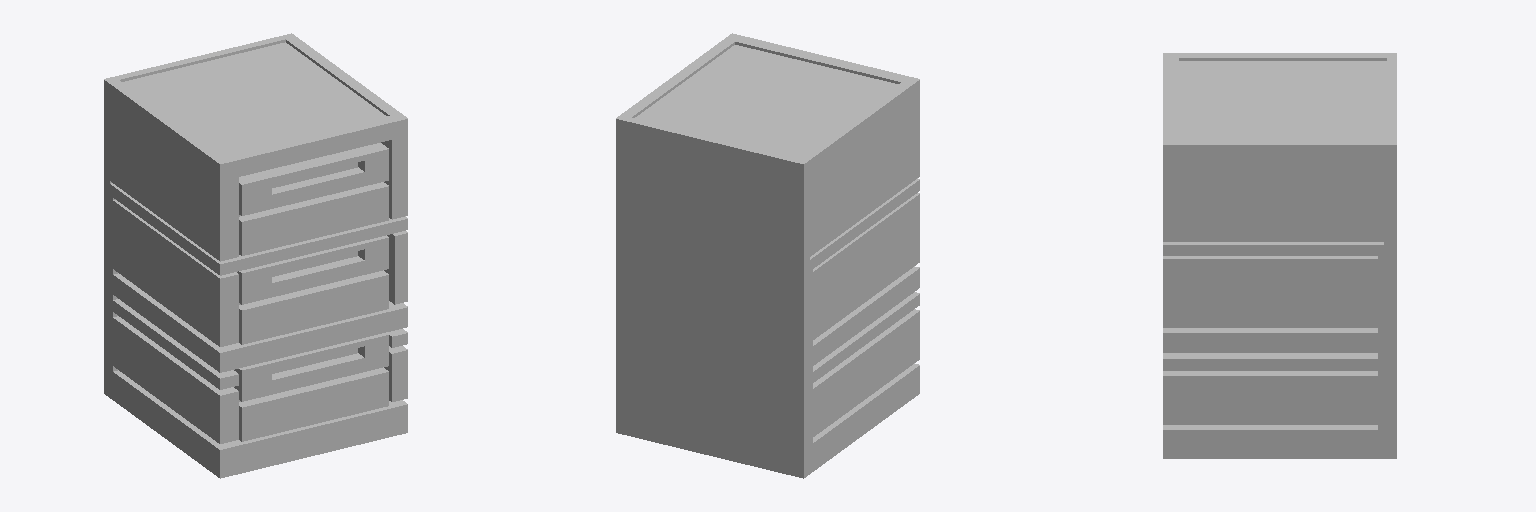
Rendered from archivero con cajones.obj.
3 renders of one model, left to right at view 1: azimuth 30°, elevation 25°; view 2: azimuth 150°, elevation 25°; view 3: azimuth 270°, elevation 25°, orthographic.
Visible parts, largest first — view 1: object 1; view 2: object 1; view 3: object 1.
Part boxes in pixels (left/top/right/bottom): object 1: left=104, top=33, right=407, bottom=478; object 1: left=616, top=33, right=919, bottom=478; object 1: left=1163, top=53, right=1396, bottom=458.
Size of the model in its own units: 6.9 by 11 by 7.4.